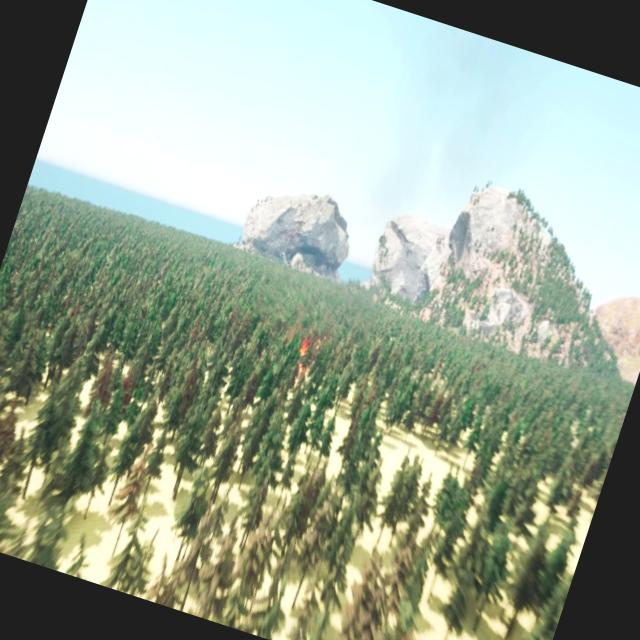fire: (296, 329, 330, 359)
